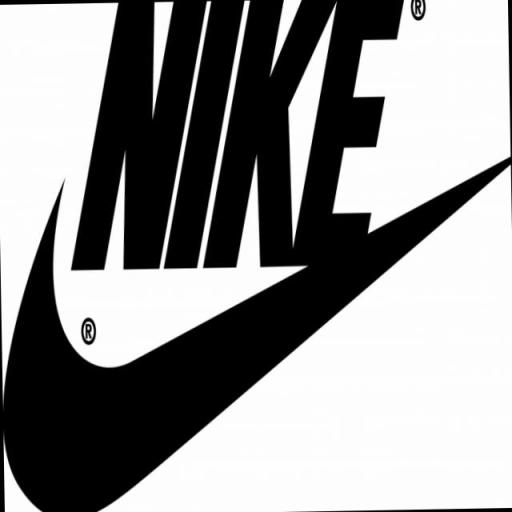Nike: (0, 197, 473, 512), (65, 0, 407, 276)
